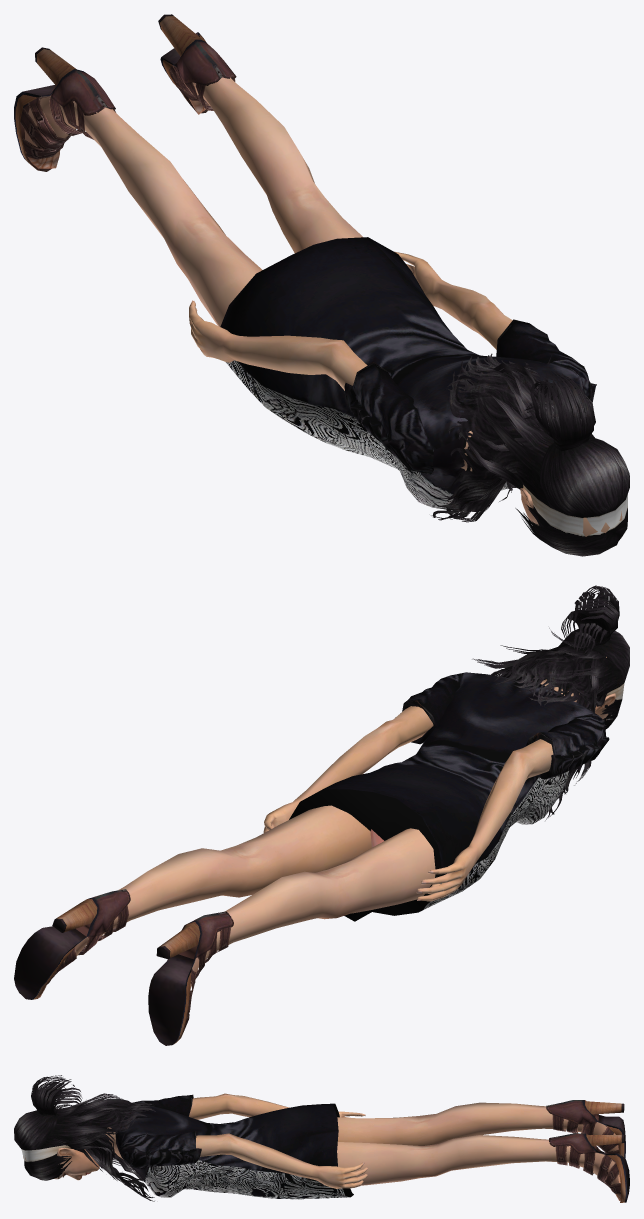
File: girl.obj
3 renders of one model, top to bottom at view 1: azimuth 30°, elevation 25°; view 2: azimuth 150°, elevation 25°; view 3: azimuth 270°, elevation 25°, orthographic. The views are drawn at different scales.
Visible parts, largest first — view 1: girl_pivot; view 2: girl_pivot; view 3: girl_pivot.
Boxes of the visible parts, x1=… form: girl_pivot: x1=14, y1=14, x2=629, y2=556; girl_pivot: x1=14, y1=585, x2=629, y2=1045; girl_pivot: x1=14, y1=1075, x2=629, y2=1202.
Bounding box in the file's own units: 2.12 × 1.52 × 7.39.
